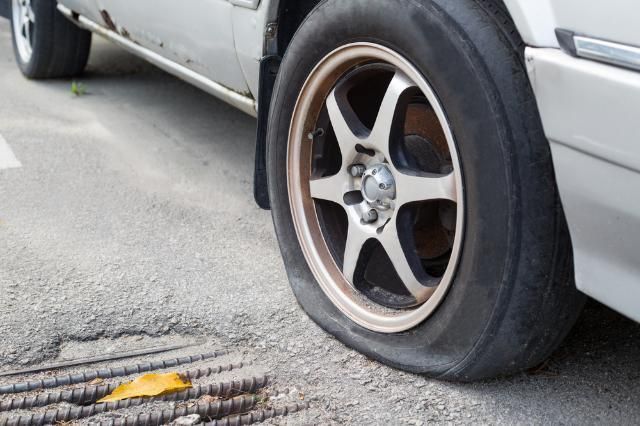tire flat: (267, 0, 582, 382)
